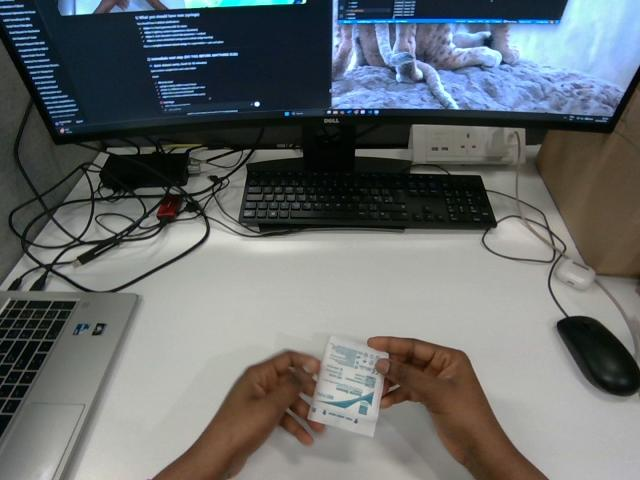gauze: (308, 336, 387, 435)
